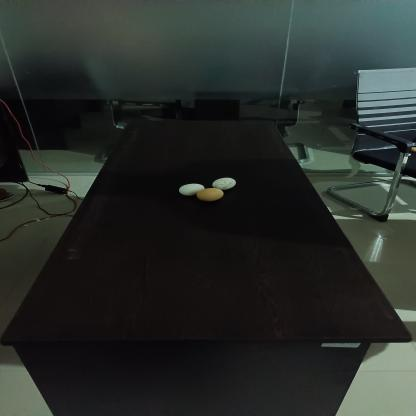egg: (192, 188, 228, 202), (210, 177, 238, 191), (178, 182, 203, 197)
